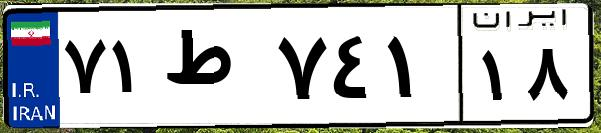1: (385, 28, 445, 110), (475, 38, 525, 113), (110, 28, 158, 98)
4: (330, 28, 385, 110)
7: (270, 28, 330, 110), (57, 26, 110, 100)
8: (525, 38, 570, 115)
ط: (158, 20, 270, 120)
